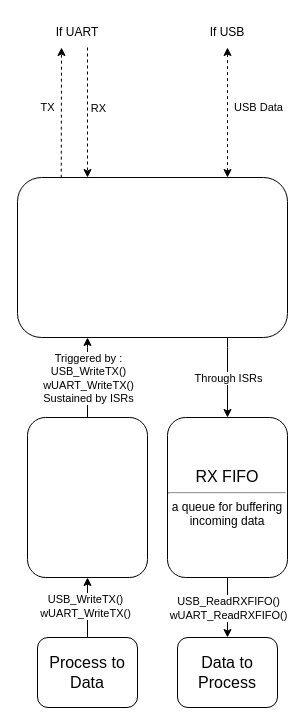
The diagram is 305 pixels wide and 725 high, and some of its shapes have lost their labels. Here are the shapes that lost their labels. From the top down, the box of each, then its label:
(16, 176, 288, 338): DMA Peripheral Independantly Receives & Transmits Bytes
(26, 416, 148, 578): TX FIFO a queue for buffering outgoing data
